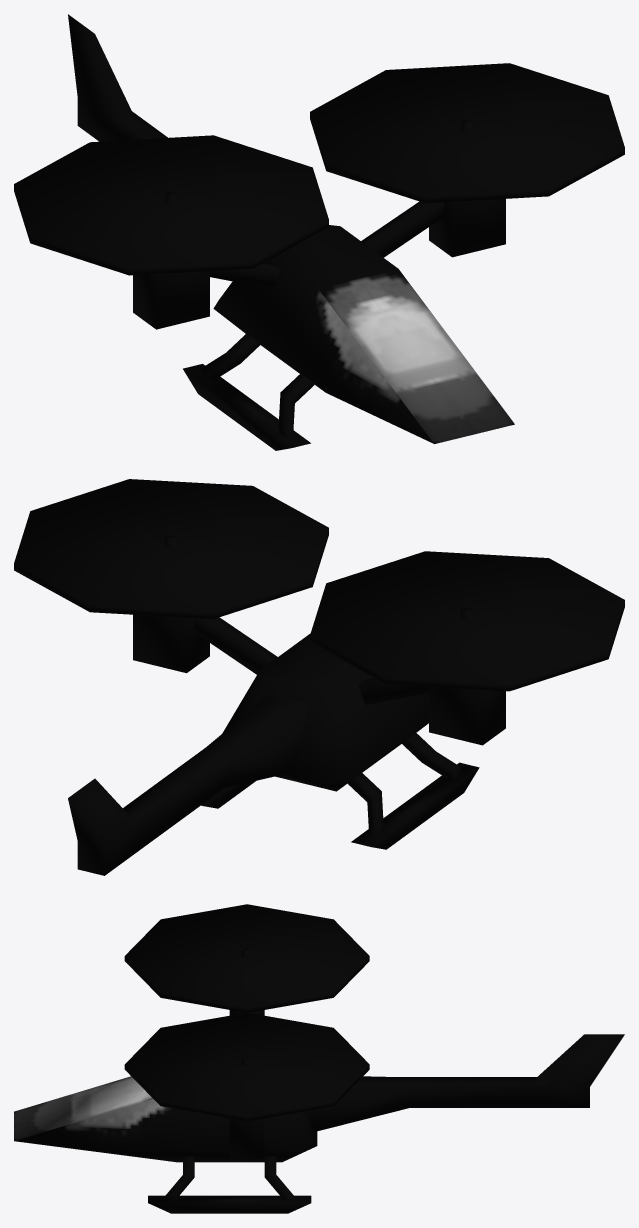
File: boss_koptor.fbx
3 views of the same model, one above another, from view 1: azimuth 30°, elevation 25°; view 2: azimuth 150°, elevation 25°; view 3: azimuth 270°, elevation 25° (orthographic). The views are drawn at different scales.
Visible parts, largest first — view 1: mook_kopter; view 2: mook_kopter; view 3: mook_kopter.
Part boxes in pixels (x1,y1,x2,y2): mook_kopter: (14,14,624,450); mook_kopter: (14,479,624,875); mook_kopter: (14,904,624,1213).
Size of the model in its own units: 8.6 by 3.3 by 10.48.
